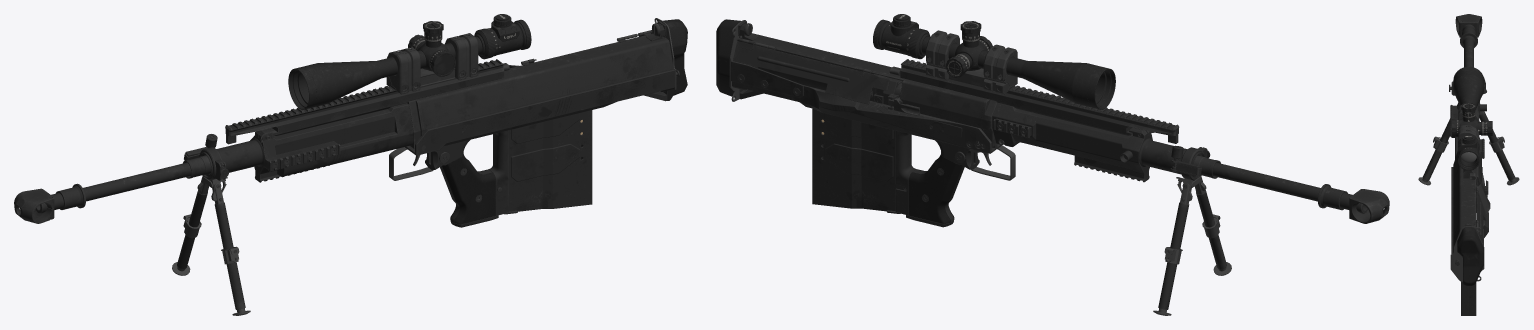
The model's file is gm6_lynx.glb.
3 renders of one model, left to right at view 1: azimuth 30°, elevation 25°; view 2: azimuth 150°, elevation 25°; view 3: azimuth 270°, elevation 25°, orthographic. The views are drawn at different scales.
Parts seen in each view (by area): view 1: Cylinder.006; view 2: Cylinder.006; view 3: Cylinder.006.
Boxes of the visible parts, box(x1,y1,x2,y2) form: Cylinder.006: box(14, 14, 687, 315); Cylinder.006: box(716, 14, 1389, 315); Cylinder.006: box(1418, 14, 1519, 315).
Bounding box in the file's own units: 5.6 × 1.73 × 1.01.
2 materials, 2 textured.
